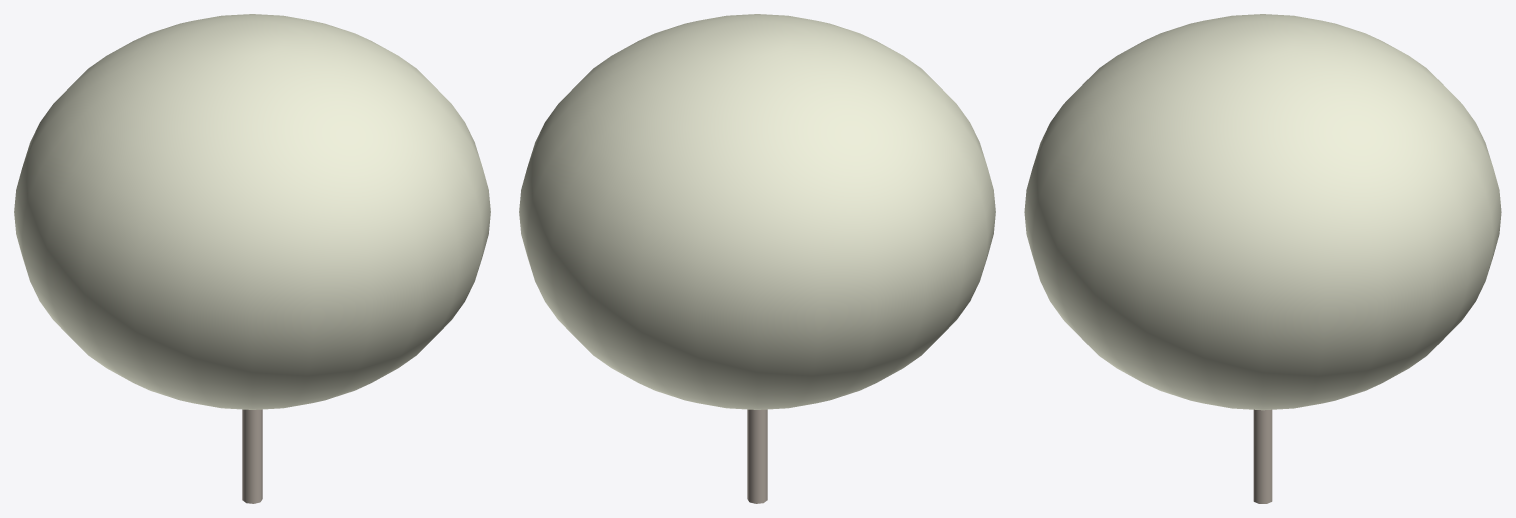
Rendered from AraliaElata.glb.
3 renders of one model, left to right at view 1: azimuth 30°, elevation 25°; view 2: azimuth 150°, elevation 25°; view 3: azimuth 270°, elevation 25°, orthographic.
Parts seen in each view (by area): view 1: Japanese_Angelica_Tree__Schematic_LOD3; view 2: Japanese_Angelica_Tree__Schematic_LOD3; view 3: Japanese_Angelica_Tree__Schematic_LOD3.
Boxes of the visible parts, <box> form: Japanese_Angelica_Tree__Schematic_LOD3: <box>14,14,490,503</box>; Japanese_Angelica_Tree__Schematic_LOD3: <box>519,14,995,503</box>; Japanese_Angelica_Tree__Schematic_LOD3: <box>1024,14,1501,503</box>.
Bounding box in the file's own units: 6.12 × 6.49 × 6.12.
